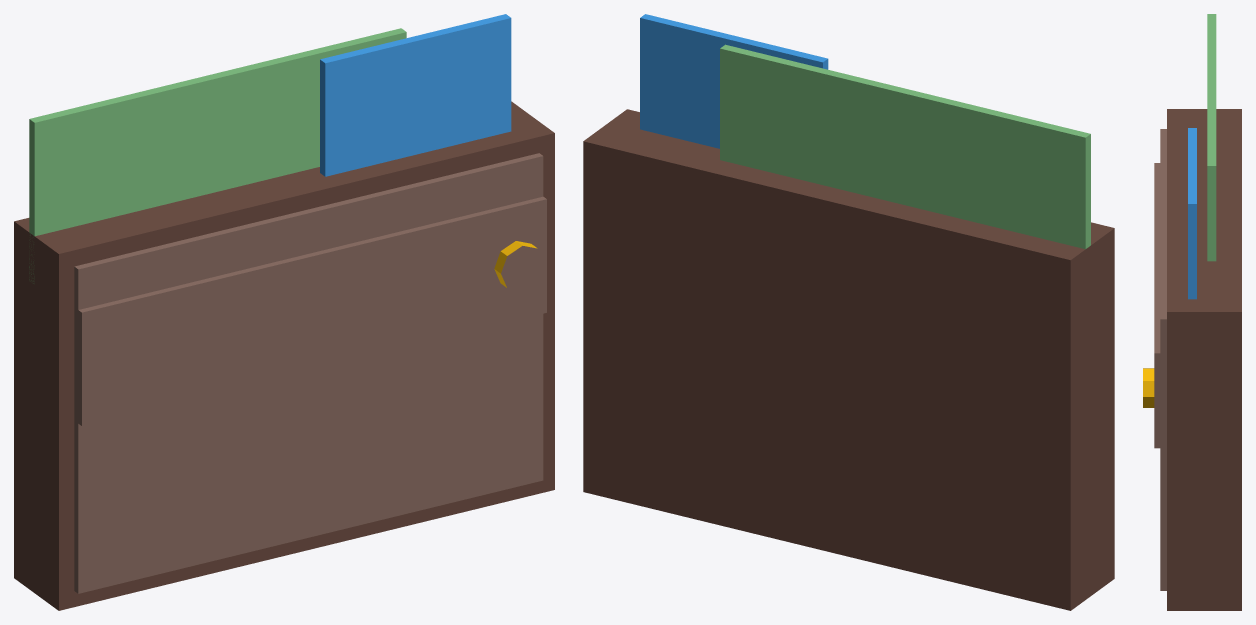
The model's file is planbok.glb.
3 renders of one model, left to right at view 1: azimuth 30°, elevation 25°; view 2: azimuth 150°, elevation 25°; view 3: azimuth 270°, elevation 25°, orthographic. The views are drawn at different scales.
Visible parts, largest first — view 1: planbok; view 2: planbok; view 3: planbok.
Part boxes in pixels (left/top/right/bottom): planbok: left=14, top=14, right=554, bottom=610; planbok: left=583, top=14, right=1114, bottom=610; planbok: left=1143, top=14, right=1241, bottom=610.
Size of the model in its own units: 0.32 by 0.29 by 0.066.
